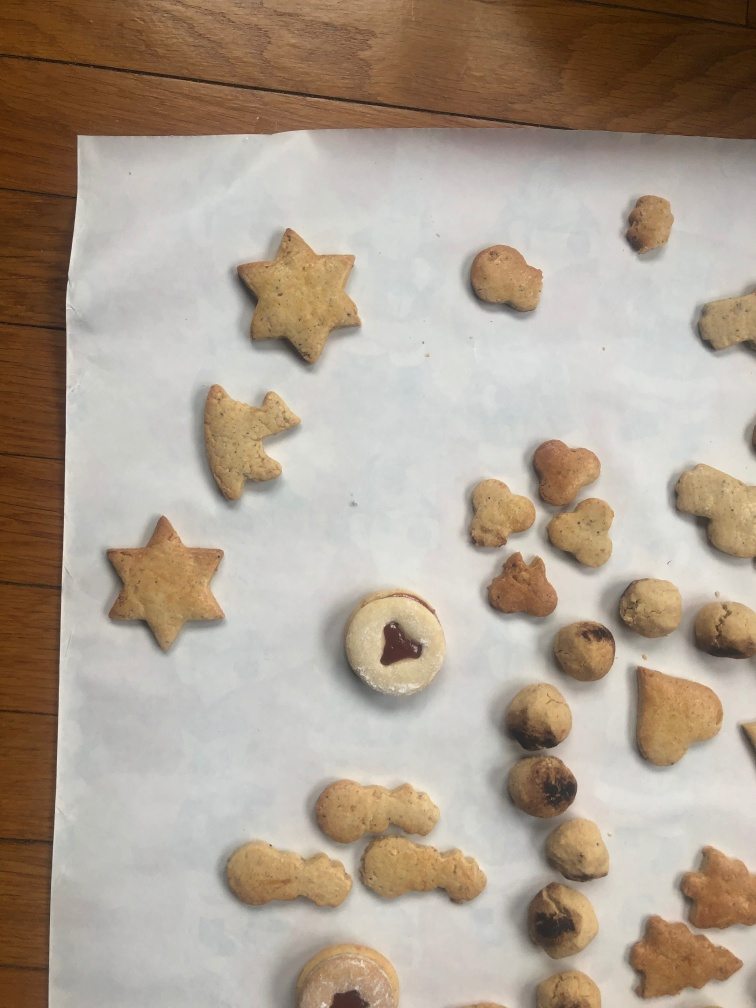christmas shortbread with jam: (340, 589, 452, 704), (281, 934, 402, 1008)
christmas tree: (620, 910, 750, 1004), (675, 844, 756, 933)
flake: (461, 477, 545, 554), (481, 546, 559, 627), (527, 435, 601, 516)
heart: (627, 661, 724, 778)
lamb: (196, 378, 303, 510)
santa claus: (667, 457, 756, 568)
snowball: (525, 882, 603, 962), (500, 677, 580, 754), (498, 750, 579, 819), (614, 572, 684, 649), (542, 811, 615, 884), (543, 617, 622, 684), (691, 596, 756, 664)
snowman: (213, 832, 353, 918), (358, 828, 493, 910), (308, 775, 439, 849)
star: (231, 223, 370, 375), (97, 511, 232, 656)
